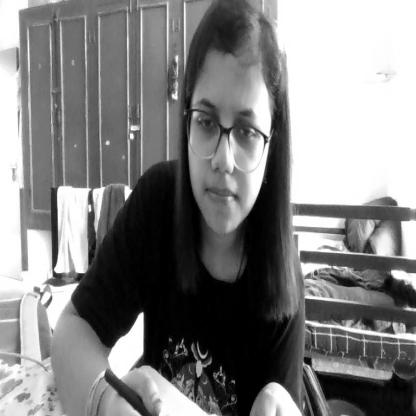Normal: (185, 0, 287, 240)
